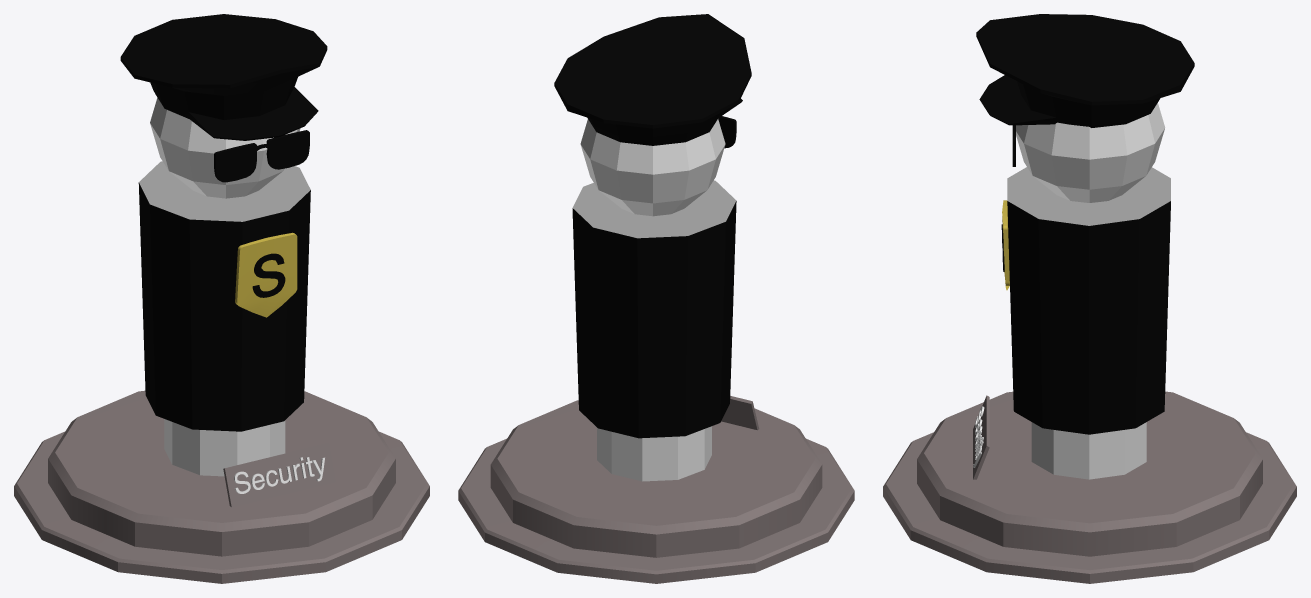
File: Security.fbx
3 renders of one model, left to right at view 1: azimuth 30°, elevation 25°; view 2: azimuth 150°, elevation 25°; view 3: azimuth 270°, elevation 25°, orthographic. The views are drawn at different scales.
Visible parts, largest first — view 1: pCylinder9, pCylinder13, pCylinder17, pSphere3, pCube24, pCube23, pCube22, Trim_Char_s_5_1; view 2: pCylinder9, pCylinder13, pCylinder17, pSphere3, pCube24; view 3: pCylinder9, pCylinder13, pCylinder17, pSphere3, pCube24.
Part boxes in pixels (bbox=[...]): pCylinder9: bbox=[14, 390, 429, 583]; pCylinder13: bbox=[138, 161, 310, 476]; pCylinder17: bbox=[120, 14, 327, 140]; pSphere3: bbox=[150, 98, 300, 198]; pCube24: bbox=[223, 443, 335, 507]; pCube23: bbox=[235, 232, 297, 317]; pCube22: bbox=[214, 130, 309, 182]; Trim_Char_s_5_1: bbox=[252, 253, 285, 297]; pCylinder9: bbox=[458, 400, 854, 583]; pCylinder13: bbox=[572, 180, 736, 481]; pCylinder17: bbox=[554, 14, 751, 145]; pSphere3: bbox=[580, 119, 725, 216]; pCube24: bbox=[721, 396, 759, 430]; pCylinder9: bbox=[883, 391, 1296, 583]; pCylinder13: bbox=[1007, 167, 1170, 479]; pCylinder17: bbox=[976, 14, 1194, 127]; pSphere3: bbox=[1016, 103, 1165, 202]; pCube24: bbox=[973, 395, 989, 479].
Bounding box in the file's own units: 10.26 × 12.73 × 10.26.
